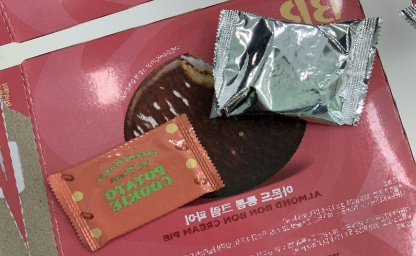br: (178, 0, 412, 170)
pota: (36, 103, 235, 256)
